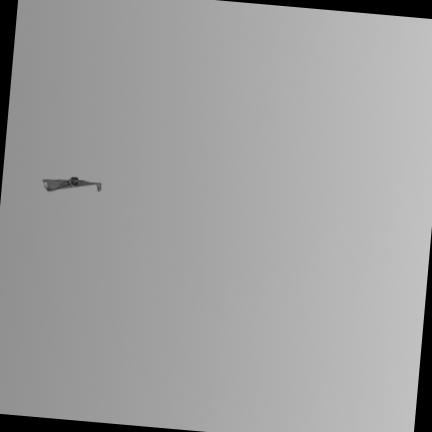Shahed: (43, 176, 100, 190)
